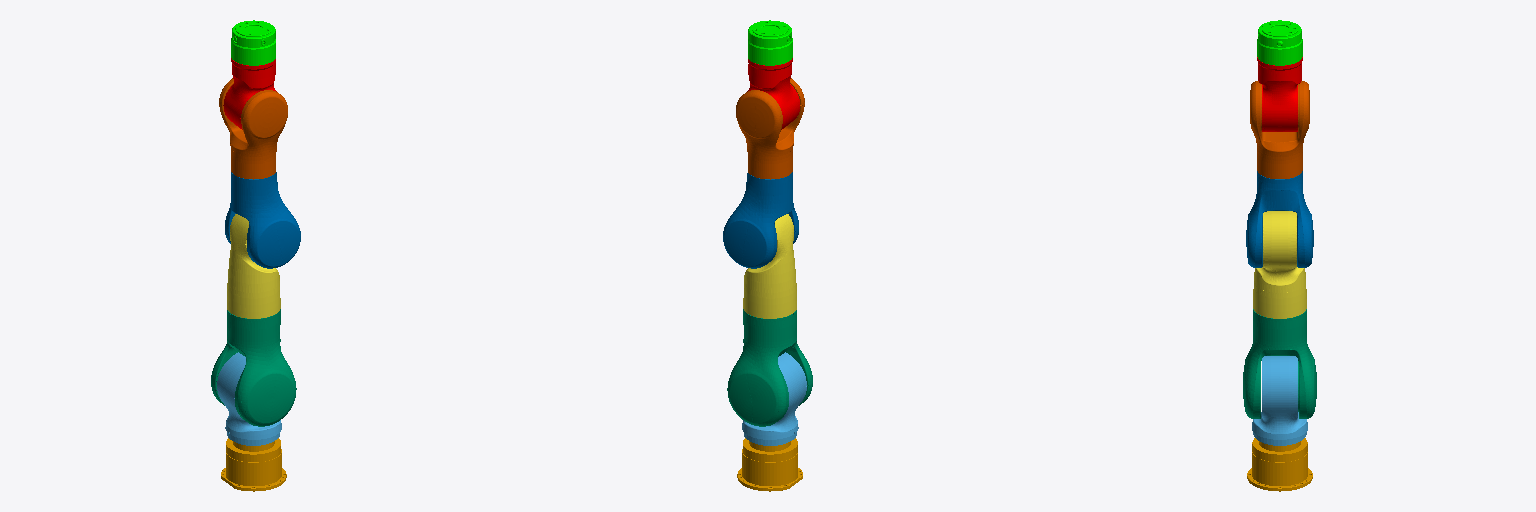
The robot description file, URDF, robot "DobotCR5":
<?xml version="1.0" ?>
<!-- =================================================================================== -->
<!-- |    This document was autogenerated by xacro from robot.xacro                    | -->
<!-- |    EDITING THIS FILE BY HAND IS NOT RECOMMENDED                                 | -->
<!-- =================================================================================== -->
<robot name="DobotCR5">
  <!-- Base link -->
  <link name="base_link">
    <inertial>
      <origin xyz="0.0001427 1.626E-05 0.039067"/>
      <mass value="1.2946"/>
      <inertia ixx="0.00116453" ixy="1.06E-06" ixz="-8.13E-06" iyy="0.00114921" iyz="3.08E-06" izz="0.00141686"/>
    </inertial>
    <visual>
      <geometry>
        <mesh filename="package://m6_srs_description/meshes/base.obj"/>
      </geometry>
    </visual>
    <collision>
      <geometry>
        <mesh filename="package://m6_srs_description/meshes/base.obj"/>
      </geometry>
    </collision>
  </link>
  <!-- link 1 -->
  <link name="link1">
    <inertial>
      <origin xyz="1.875E-05 0.006003 0.1438"/>
      <mass value="2.0926"/>
      <inertia ixx="0.00515643" ixy="2.62E-06" ixz="3.78E-06" iyy="0.0055553" iyz="0.00038404" izz="0.00198037"/>
    </inertial>
    <visual>
      <geometry>
        <mesh filename="package://m6_srs_description/meshes/link1.obj"/>
      </geometry>
    </visual>
    <collision>
      <geometry>
        <mesh filename="package://m6_srs_description/meshes/link1.obj"/>
      </geometry>
    </collision>
  </link>
  <!-- Joint 1 -->
  <joint name="joint1" type="revolute">
    <parent link="base_link"/>
    <child link="link1"/>
    <axis xyz="0 0 1"/>
    <limit effort="108" lower="-3.1067" upper="3.1067" velocity="3.1416"/>
  </joint>
  <!-- link 2 -->
  <link name="link2">
    <inertial>
      <origin xyz="-7.03E-06 0.05542 0.010995"/>
      <mass value="1.9432"/>
      <inertia ixx="0.01035460" ixy="-5.59E-06" ixz="2.06E-06" iyy="0.00316139" iyz="-0.00119042" izz="0.00953530"/>
    </inertial>
    <visual>
      <geometry>
        <mesh filename="package://m6_srs_description/meshes/link2.obj"/>
      </geometry>
    </visual>
    <collision>
      <geometry>
        <mesh filename="package://m6_srs_description/meshes/link2.obj"/>
      </geometry>
    </collision>
  </link>
  <!-- Joint 2 -->
  <joint name="joint2" type="revolute">
    <origin rpy="1.5708 0 0" xyz="0 0 0.1745"/>
    <parent link="link1"/>
    <child link="link2"/>
    <axis xyz="0 0 1"/>
    <limit effort="108" lower="-2.0944" upper="2.0944" velocity="3.1416"/>
  </joint>
  <!-- link 3 -->
  <link name="link3">
    <inertial>
      <origin xyz="0.0087411 0.0019043 0.23487"/>
      <mass value="1.6913"/>
      <inertia ixx="0.00650115" ixy="3.338E-05" ixz="0.00079318" iyy="0.00689453" iyz="0.00017675" izz="0.00164437"/>
    </inertial>
    <visual>
      <geometry>
        <mesh filename="package://m6_srs_description/meshes/link3.obj"/>
      </geometry>
    </visual>
    <collision>
      <geometry>
        <mesh filename="package://m6_srs_description/meshes/link3.obj"/>
      </geometry>
    </collision>
  </link>
  <!-- Joint 3 -->
  <joint name="joint3" type="revolute">
    <origin rpy="-1.5708 0 0" xyz="0 0 0"/>
    <parent link="link2"/>
    <child link="link3"/>
    <axis xyz="0 0 1"/>
    <limit effort="66" lower="-3.1067" upper="3.1067" velocity="3.1416"/>
  </joint>
  <!-- link 4 -->
  <link name="link4">
    <inertial>
      <origin xyz="-0.00734397 0.04342803 0.01090610"/>
      <mass value="1.44022"/>
      <inertia ixx="0.00530332" ixy="-0.00059200" ixz="0.00012225" iyy="0.00200619" iyz="-0.00069378" izz="0.00491970"/>
    </inertial>
    <visual>
      <geometry>
        <mesh filename="package://m6_srs_description/meshes/link4.obj"/>
      </geometry>
    </visual>
    <collision>
      <geometry>
        <mesh filename="package://m6_srs_description/meshes/link4.obj"/>
      </geometry>
    </collision>
  </link>
  <!-- Joint 4 -->
  <joint name="joint4" type="revolute">
    <origin rpy="1.5708 0 0" xyz="0.018 0 0.287"/>
    <parent link="link3"/>
    <child link="link4"/>
    <axis xyz="0 0 1"/>
    <limit effort="66" lower="-2.5307" upper="1.0472" velocity="3.1416"/>
  </joint>
  <!-- link 5 -->
  <link name="link5">
    <inertial>
      <origin xyz="0.00003950 -0.00840978 0.19192382"/>
      <mass value="1.18638637"/>
      <inertia ixx="0.00379851" ixy="0.00000036" ixz="-0.00000177" iyy="0.00343926" iyz="-0.00050064" izz="0.00133506"/>
    </inertial>
    <visual>
      <geometry>
        <mesh filename="package://m6_srs_description/meshes/link5.obj"/>
      </geometry>
    </visual>
    <collision>
      <geometry>
        <mesh filename="package://m6_srs_description/meshes/link5.obj"/>
      </geometry>
    </collision>
  </link>
  <!-- Joint 5 -->
  <joint name="joint5" type="revolute">
    <origin rpy="-1.5708 0 0" xyz="-0.018 0 0"/>
    <parent link="link4"/>
    <child link="link5"/>
    <axis xyz="0 0 1"/>
    <limit effort="18" lower="-3.1067" upper="3.1067" velocity="3.1416"/>
  </joint>
  <!-- link 6 -->
  <link name="link6">
    <inertial>
      <origin xyz="0.00001592 0.03649 -0.00142323"/>
      <mass value="1.04934394"/>
      <inertia ixx="0.00231171" ixy="-0.00000121" ixz="-0.00000025" iyy="0.00065728" iyz="0.00006690" izz="0.00243087"/>
    </inertial>
    <visual>
      <geometry>
        <mesh filename="package://m6_srs_description/meshes/link6.obj"/>
      </geometry>
      <material name="">
        <color rgba="1 0 0 1"/>
      </material>
    </visual>
    <collision>
      <geometry>
        <mesh filename="package://m6_srs_description/meshes/link6.obj"/>
      </geometry>
    </collision>
  </link>
  <!-- Joint 6 -->
  <joint name="joint6" type="revolute">
    <origin rpy="1.5708 0 0" xyz="0 0 0.242"/>
    <parent link="link5"/>
    <child link="link6"/>
    <axis xyz="0 0 1"/>
    <limit effort="18" lower="-1.9199" upper="1.9199" velocity="3.1416"/>
  </joint>
  <!-- link 7 -->
  <link name="link7">
    <inertial>
      <origin xyz="-7.58E-05 1.6597E-04 0.1183953"/>
      <mass value="0.5268"/>
      <inertia ixx="0.00768725" ixy="0.00000094" ixz="-0.00000609" iyy="0.00768792" iyz="-0.00001163" izz="0.00038293"/>
    </inertial>
    <visual>
      <geometry>
        <mesh filename="package://m6_srs_description/meshes/link7.obj" scale="1 1 1"/>
      </geometry>
      <material name="">
        <color rgba="0 1 0 1"/>
      </material>
    </visual>
    <collision>
      <geometry>
        <mesh filename="package://m6_srs_description/meshes/link7.obj" scale="1 1 1"/>
      </geometry>
    </collision>
  </link>
  <!-- Joint 7 -->
  <joint name="joint7" type="revolute">
    <origin rpy="-1.5708 0 0" xyz="0 0 0"/>
    <parent link="link6"/>
    <child link="link7"/>
    <axis xyz="0 0 1"/>
    <limit effort="18" lower="-3.1067" upper="3.1067" velocity="3.1416"/>
  </joint>
</robot>

--- Facts derived from the render (not from the file) ---
The picture shows the robot from 3 angles, left to right: view 1: azimuth 30°, elevation 25°; view 2: azimuth 150°, elevation 25°; view 3: azimuth 270°, elevation 25°; orthographic projection.
Model DobotCR5 with 8 links and 7 joints (7 revolute), rooted at base_link, posed all joints at 0.
Visible links, largest first — view 1: link2, link4, link5, link3, base_link, link1, link6, link7; view 2: link2, link4, link5, link3, base_link, link1, link6, link7; view 3: link3, link2, link1, link4, link5, base_link, link6, link7.
Boxes of the visible links, x1,y1,x2,y2 form: link2: [211, 309, 296, 426]; link4: [225, 172, 300, 268]; link5: [219, 78, 287, 179]; link3: [227, 214, 280, 318]; base_link: [221, 438, 286, 491]; link1: [217, 352, 281, 445]; link6: [223, 58, 276, 129]; link7: [231, 20, 275, 65]; link2: [727, 309, 812, 426]; link4: [723, 172, 798, 268]; link5: [736, 78, 804, 179]; link3: [743, 214, 796, 318]; base_link: [737, 438, 802, 491]; link1: [742, 352, 806, 445]; link6: [747, 58, 799, 129]; link7: [748, 20, 792, 65]; link3: [1253, 211, 1306, 318]; link2: [1243, 309, 1316, 418]; link1: [1252, 356, 1307, 445]; link4: [1246, 171, 1313, 267]; link5: [1250, 81, 1309, 178]; base_link: [1247, 438, 1312, 491]; link6: [1257, 57, 1302, 131]; link7: [1257, 20, 1302, 65].
Bounding box of the posed robot: 0.1262 × 0.1271 × 0.8585 m (x, y, z).
Meshes: 8 distinct files referenced, 8 mesh visuals loaded (8 OBJ).
